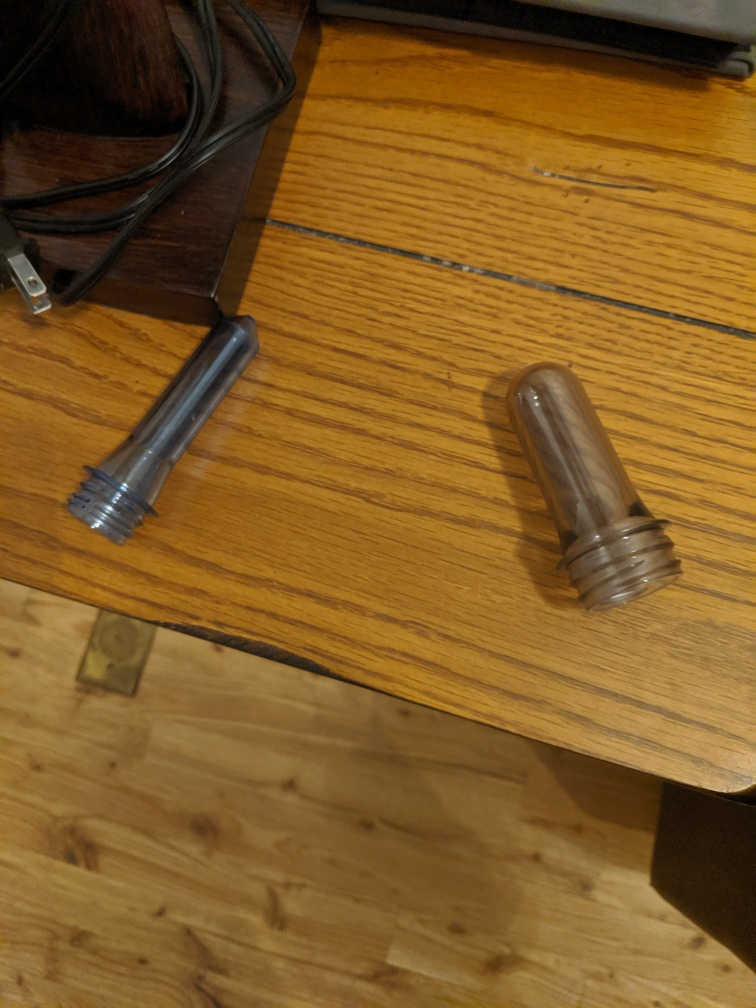preform: (56, 308, 268, 558), (497, 355, 691, 621)
